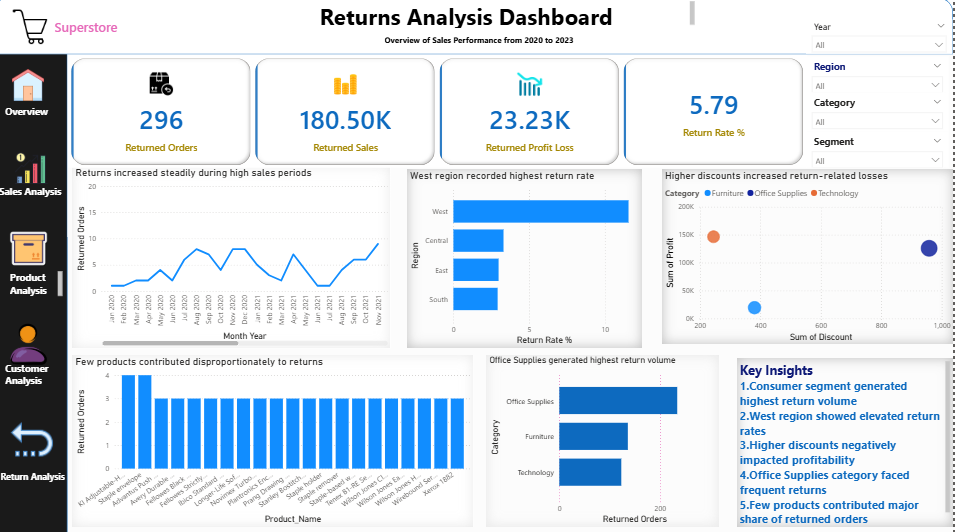

The dashboard page shown, as its layout file describes it:
{"tool":"powerbi","page":{"name":"Return Analysis","canvas":[1600,900],"ordinal":4},"visuals":[{"type":"shape","box":[0,0,124,900],"z":0},{"type":"shape","box":[0,0,1600,94],"z":1000},{"type":"scatterChart","title":"Higher discounts increased return-related losses","fields":{"X":["Sum(Orders.Discount)"],"Y":["Sum(Orders.Profit)"],"Size":["Orders.Returned Orders"],"Series":["Orders.Category"]},"box":[1114,286,486,292],"z":2000},{"type":"barChart","title":"West region recorded highest return rate","fields":{"Category":["Orders.Region"],"Y":["Orders.Return Rate %"]},"box":[690,284,392,298],"z":3000},{"type":"columnChart","title":"Few products contributed disproportionately to returns","fields":{"Category":["Orders.Product_Name"],"Y":["Orders.Returned Orders"]},"box":[132,596,668,286],"z":4000},{"type":"barChart","title":"Office Supplies generated highest return volume","fields":{"Category":["Orders.Category"],"Y":["Orders.Returned Orders"]},"box":[822,596,388,286],"z":5000},{"type":"lineChart","title":"Returns increased steadily during high sales periods","fields":{"Category":["Orders.Month Year"],"Y":["Orders.Returned Orders"]},"box":[132,280,530,304],"z":6000},{"type":"slicer","fields":{"Values":["Orders.Region"]},"box":[1356,98,238,60],"z":7000},{"type":"slicer","fields":{"Values":["Orders.Category"]},"box":[1356,158,238,64],"z":8000},{"type":"slicer","fields":{"Values":["Orders.Segment"]},"box":[1356,222,238,60],"z":9000},{"type":"cardVisual","fields":{"Data":["Orders.Returned Orders","Orders.Returned Sales","Orders.Returned Profit Loss","Orders.Return Rate %"]},"box":[124,94,1232,188],"z":10000},{"type":"textbox","box":[540,0,634,54],"z":11000},{"type":"textbox","box":[648,54,412,78],"z":12000},{"type":"image","box":[28,8,70,78],"z":13000},{"type":"textbox","box":[98,28,220,110],"z":14000},{"type":"image","box":[26,98,66,94],"z":15000},{"type":"textbox","box":[16,172,232,322],"z":16000},{"type":"image","box":[22,228,82,116],"z":17000},{"type":"image","box":[20,368,78,100],"z":18000},{"type":"image","box":[8,518,96,120],"z":19000},{"type":"image","box":[22,690,84,92],"z":20000},{"type":"textbox","box":[4,306,278,76],"z":21000},{"type":"textbox","box":[22,450,98,52],"z":22000},{"type":"textbox","box":[16,600,98,76],"z":23000},{"type":"textbox","box":[8,782,162,68],"z":24000},{"type":"textbox","box":[1240,600,360,282],"z":25000},{"type":"slicer","fields":{"Values":["DateTable.Year"]},"box":[1356,36,244,58],"z":26000}]}

Visuals, with their boxes on the page's 1600x900 design canvas (x1, y1, x2, y2). These are canvas units, not pixel positions in the 955x532 screenshot, which may show the page scaled, cropped or inside an application window:
shape: [0,0,124,900]
shape: [0,0,1600,94]
"Higher discounts increased return-related losses" scatterChart: [1114,286,1600,578]
"West region recorded highest return rate" barChart: [690,284,1082,582]
"Few products contributed disproportionately to returns" columnChart: [132,596,800,882]
"Office Supplies generated highest return volume" barChart: [822,596,1210,882]
"Returns increased steadily during high sales periods" lineChart: [132,280,662,584]
slicer - Orders.Region: [1356,98,1594,158]
slicer - Orders.Category: [1356,158,1594,222]
slicer - Orders.Segment: [1356,222,1594,282]
cardVisual - Orders.Returned Orders x Orders.Returned Sales: [124,94,1356,282]
textbox: [540,0,1174,54]
textbox: [648,54,1060,132]
image: [28,8,98,86]
textbox: [98,28,318,138]
image: [26,98,92,192]
textbox: [16,172,248,494]
image: [22,228,104,344]
image: [20,368,98,468]
image: [8,518,104,638]
image: [22,690,106,782]
textbox: [4,306,282,382]
textbox: [22,450,120,502]
textbox: [16,600,114,676]
textbox: [8,782,170,850]
textbox: [1240,600,1600,882]
slicer - DateTable.Year: [1356,36,1600,94]
